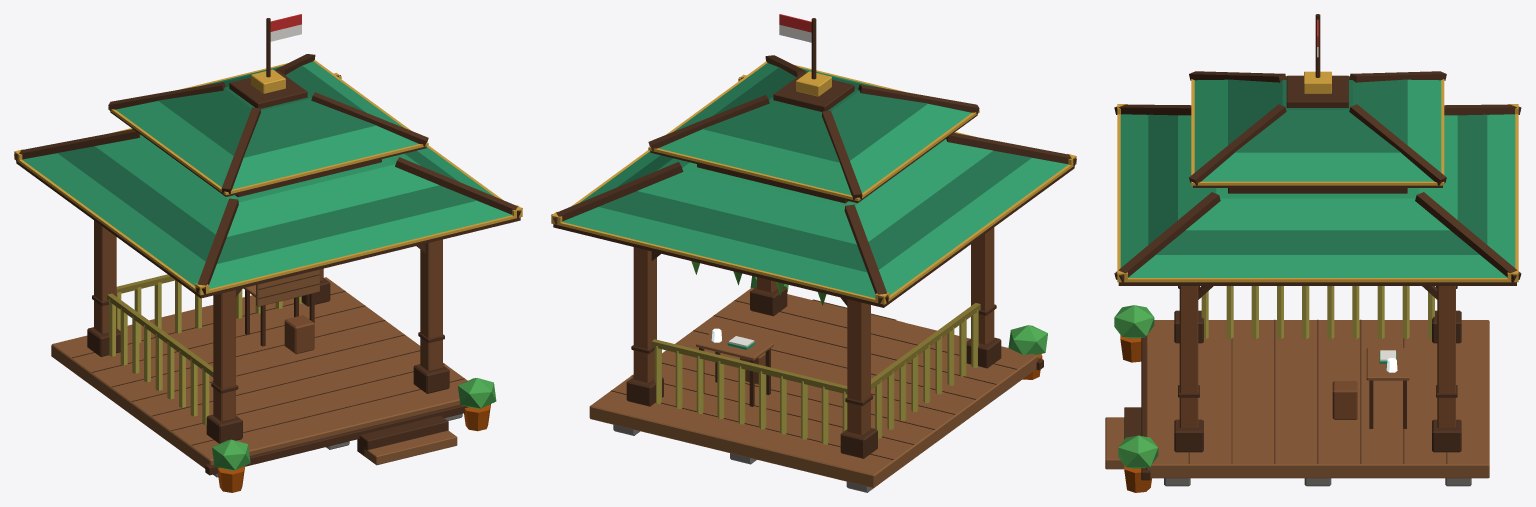
Rendered from pondok_rimba_v001.glb.
3 renders of one model, left to right at view 1: azimuth 30°, elevation 25°; view 2: azimuth 150°, elevation 25°; view 3: azimuth 270°, elevation 25°, orthographic. The views are drawn at different scales.
Visible parts, largest first — view 1: Pondok_Rimba, Papan_Nama; view 2: Pondok_Rimba; view 3: Pondok_Rimba.
Boxes of the visible parts, bbox=[...] form: Pondok_Rimba: bbox=[14, 14, 522, 492]; Papan_Nama: bbox=[256, 269, 319, 306]; Pondok_Rimba: bbox=[551, 14, 1076, 492]; Pondok_Rimba: bbox=[1105, 14, 1521, 492].
Bounding box in the file's own units: 5.21 × 5.75 × 5.33.
